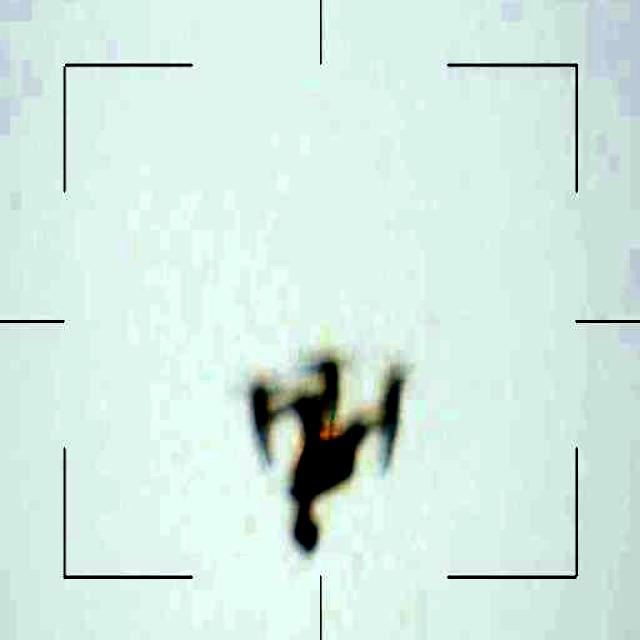bird: (246, 352, 425, 560)
